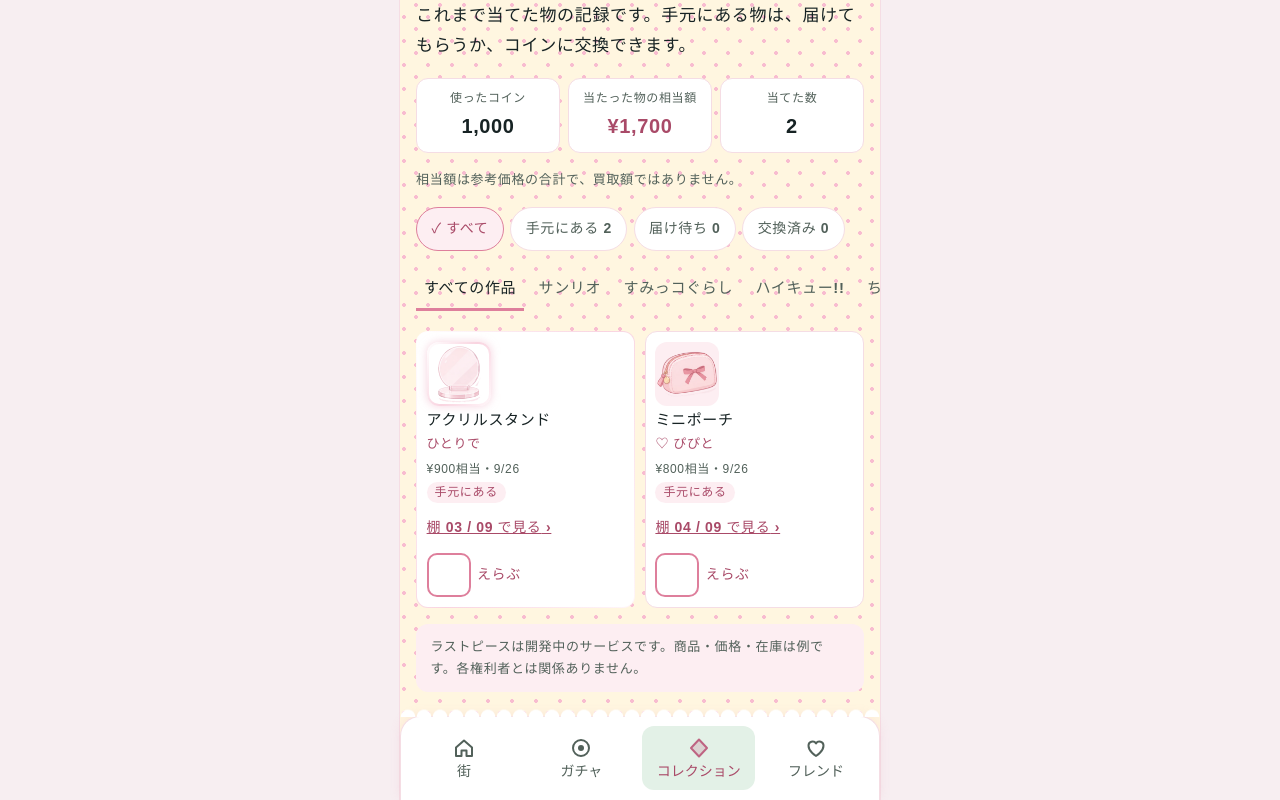
Test: 当てたものの計測（exchange / deliver） › シートを「やめる」で閉じたときは送らない
The image size is (1280, 800).
(page scrolled)
What coordinates should you click on to do the following:
click the checkbox labelled "えらぶ" below "ひとりで"
I would click on:
 (449, 575)
Its box is x1=427 y1=553 x2=471 y2=597.
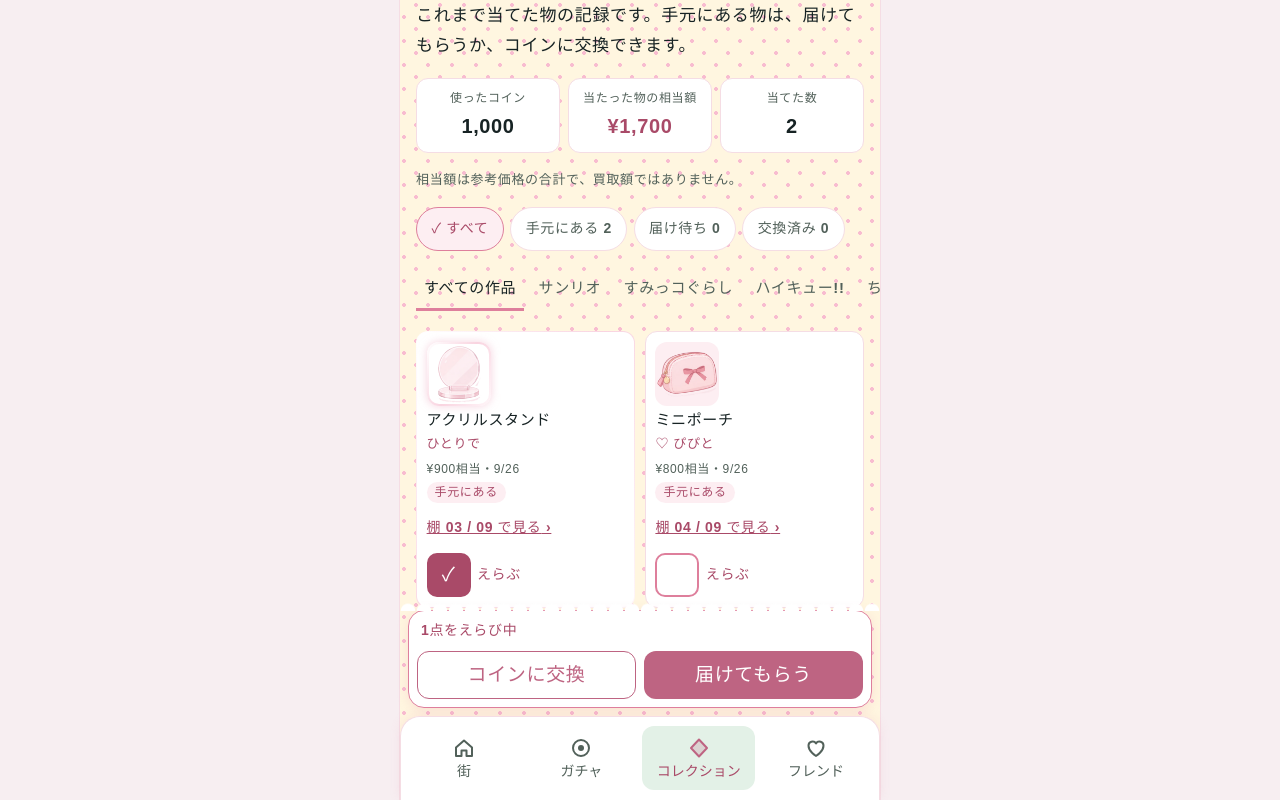
What coordinates should you click on to do the following:
click the button "コインに交換"
I would click on:
 (526, 675)
Its box is x1=417 y1=651 x2=636 y2=699.
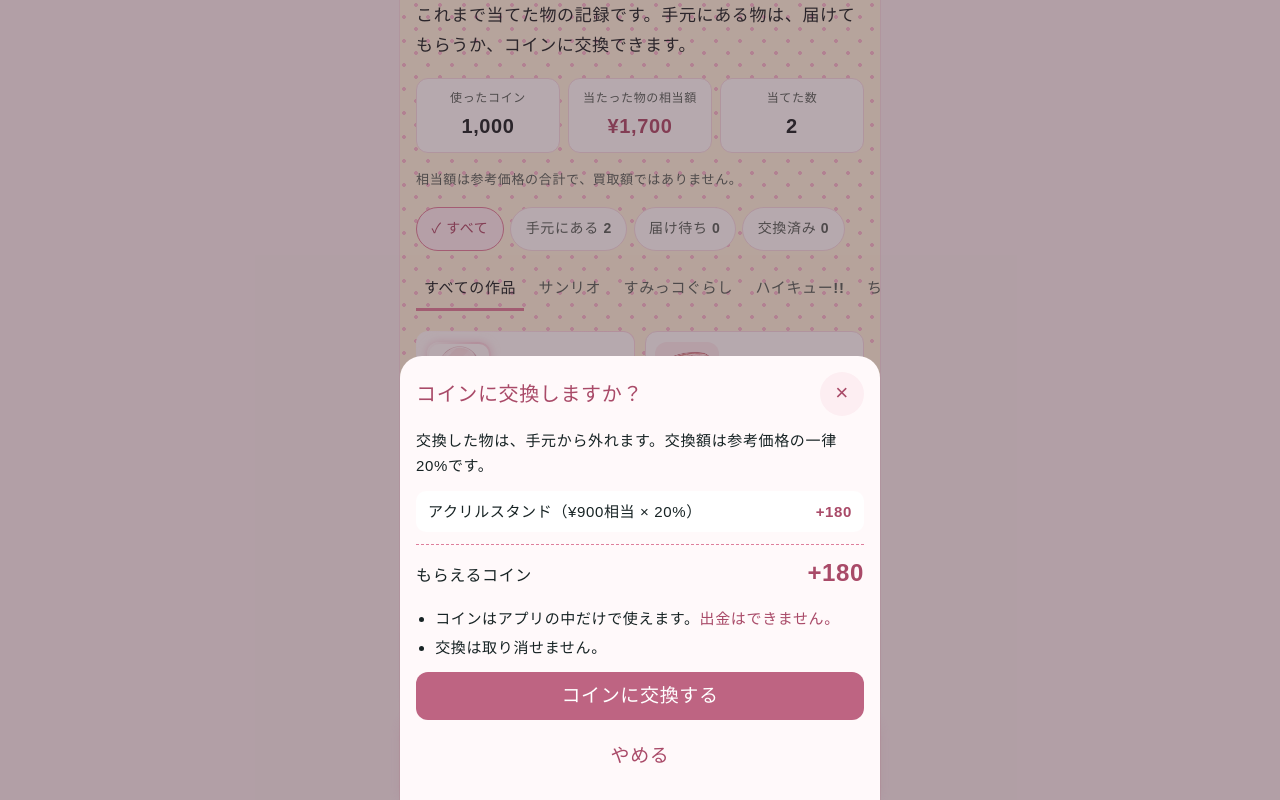
What coordinates should you click on to do the following:
click the button "やめる"
I would click on:
 (640, 756)
Its box is x1=416 y1=732 x2=864 y2=780.
(page scrolled)
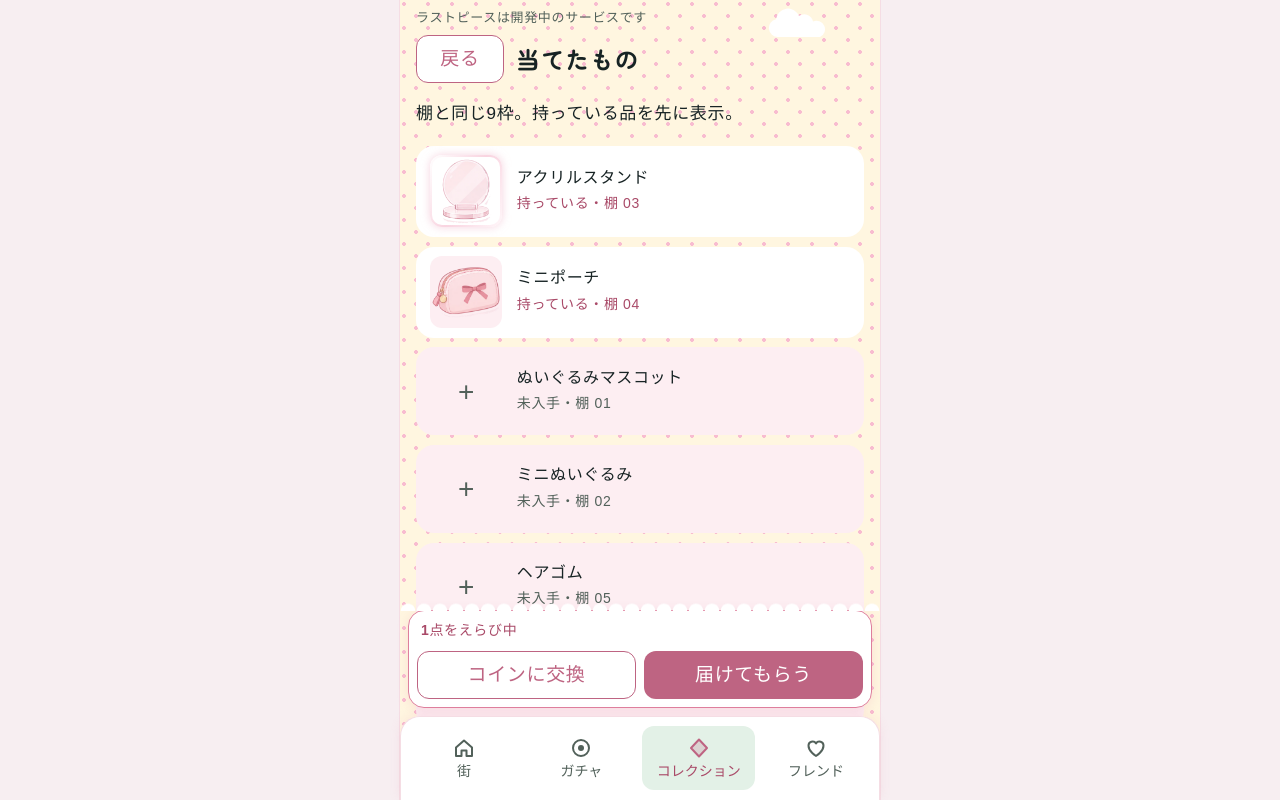
What coordinates should you click on to do the following:
click the button "届けてもらう"
I would click on:
 (754, 675)
Its box is x1=644 y1=651 x2=863 y2=699.
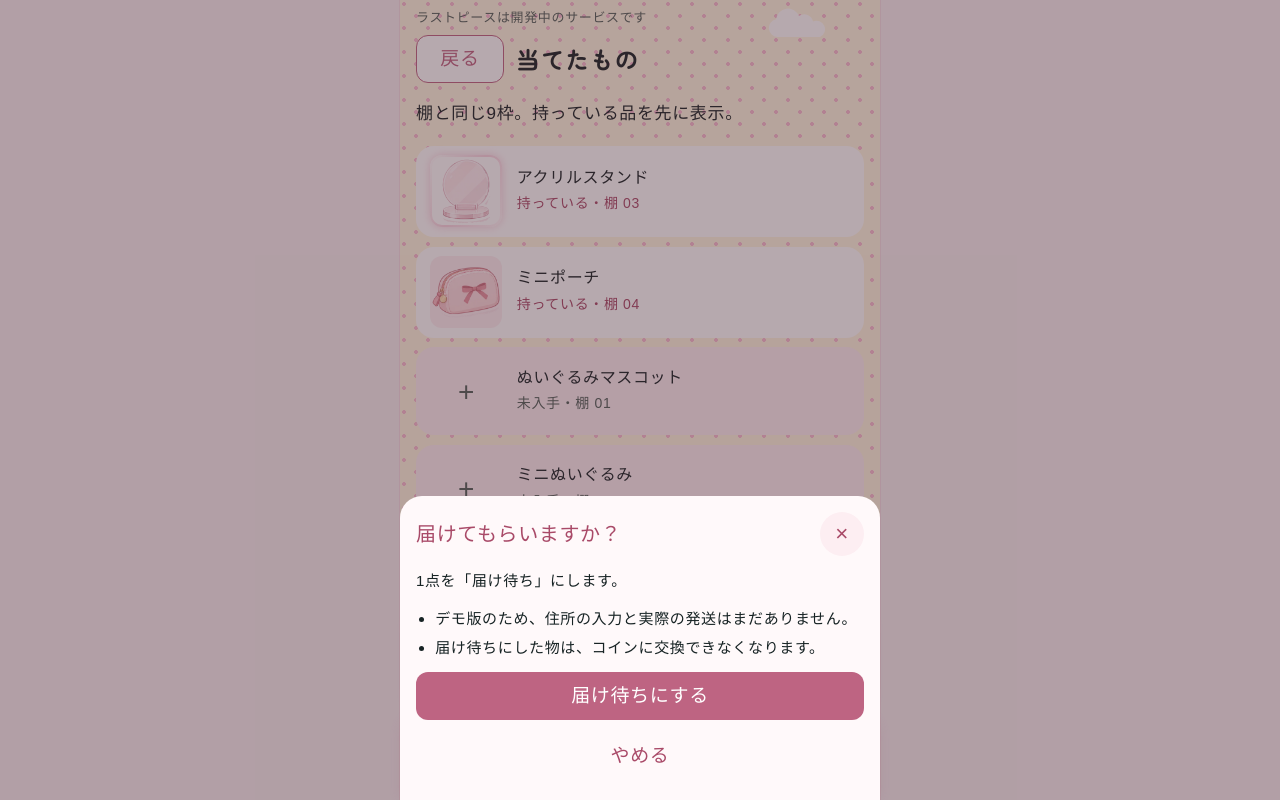
What coordinates should you click on to do the following:
click the button "やめる"
I would click on:
 (640, 756)
Its box is x1=416 y1=732 x2=864 y2=780.
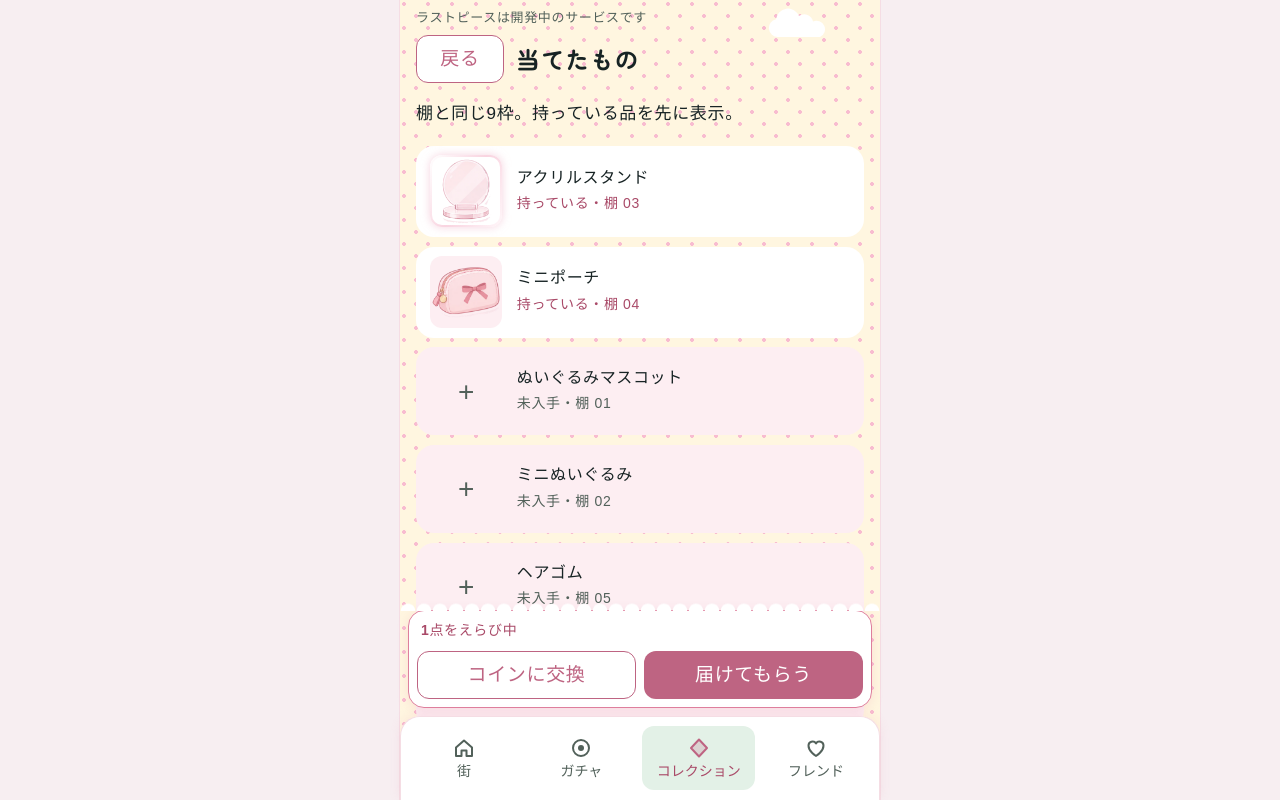
Expected: the dialog is gone
